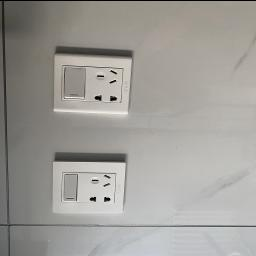outlet: (50, 50, 137, 112), (48, 156, 128, 212)
